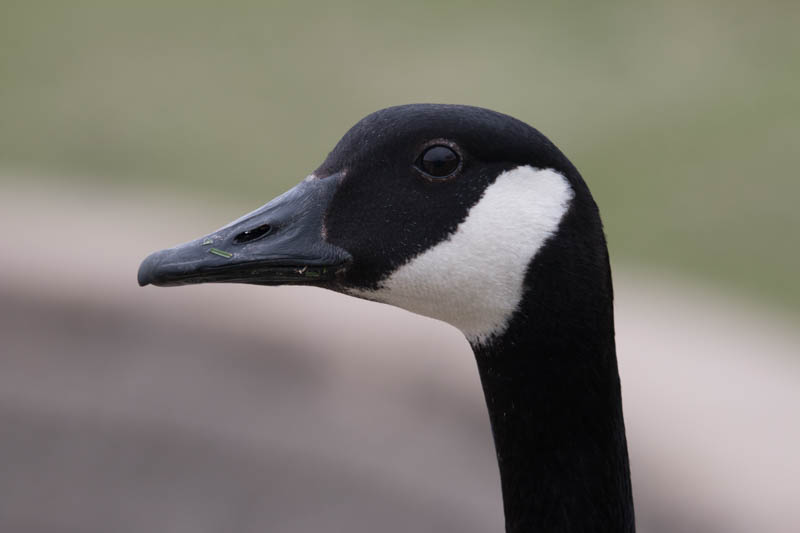goose-head: (137, 101, 613, 351)
